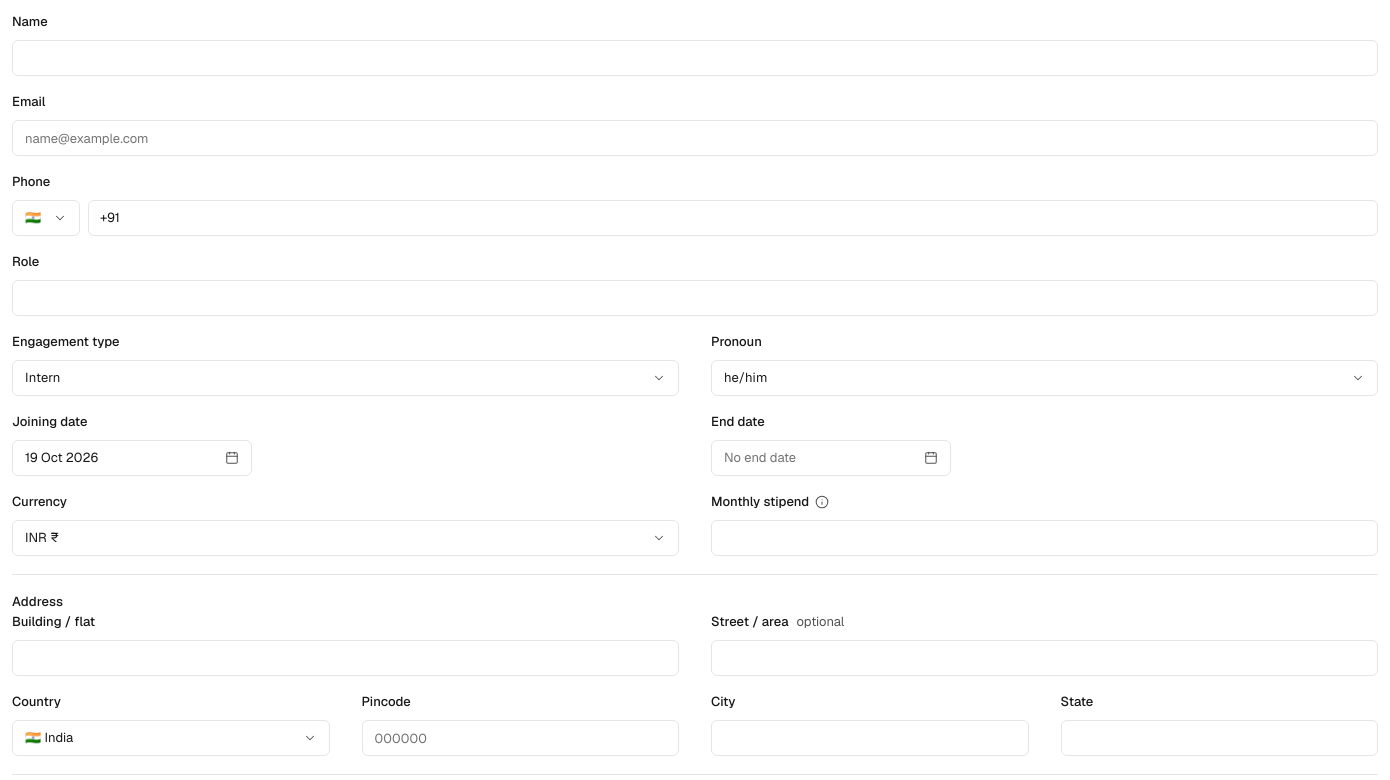
it: EmployeeForm — the pay figure › asks an employee for an annual salary
Click the dropdown named "engagement type". click: (43, 378)
box: [12,360,679,396]
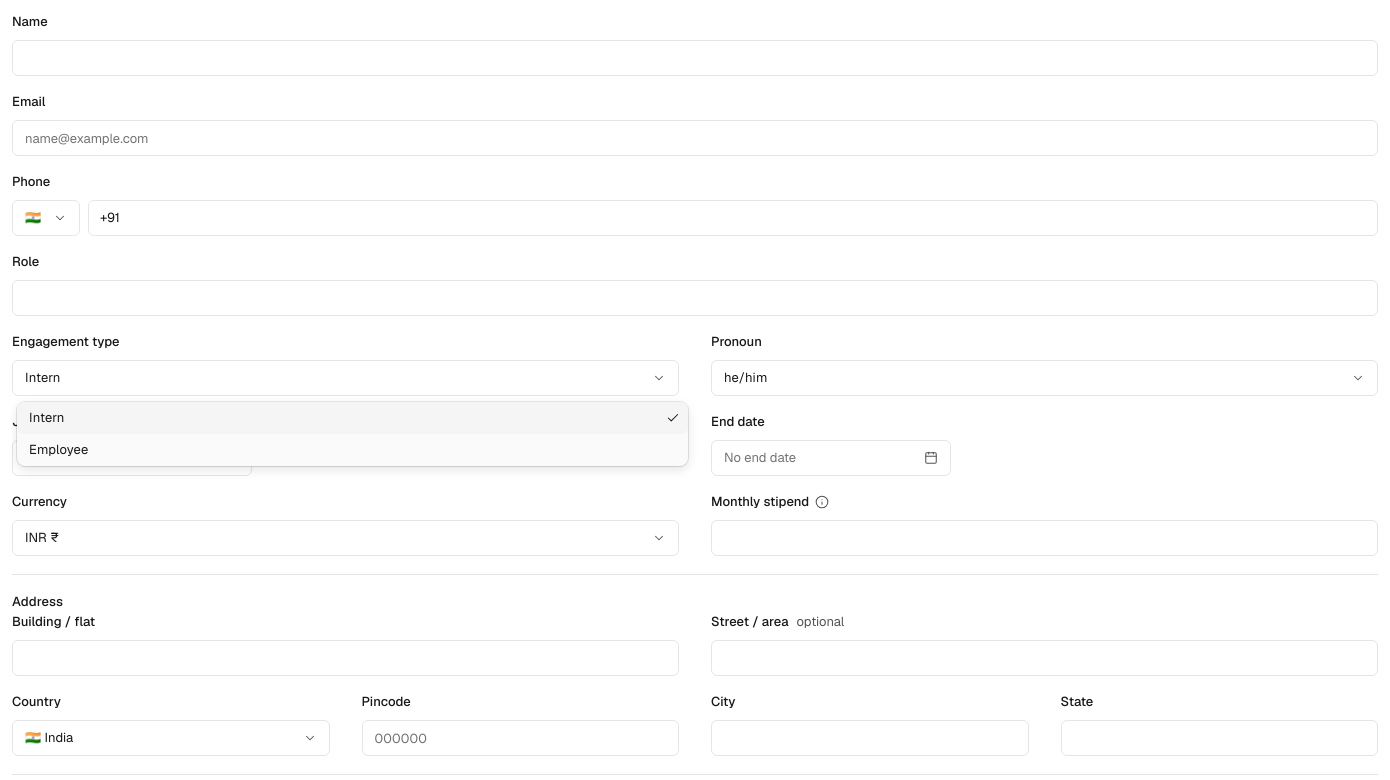
Click the option "Employee". click: (59, 450)
box: [29,441,88,458]
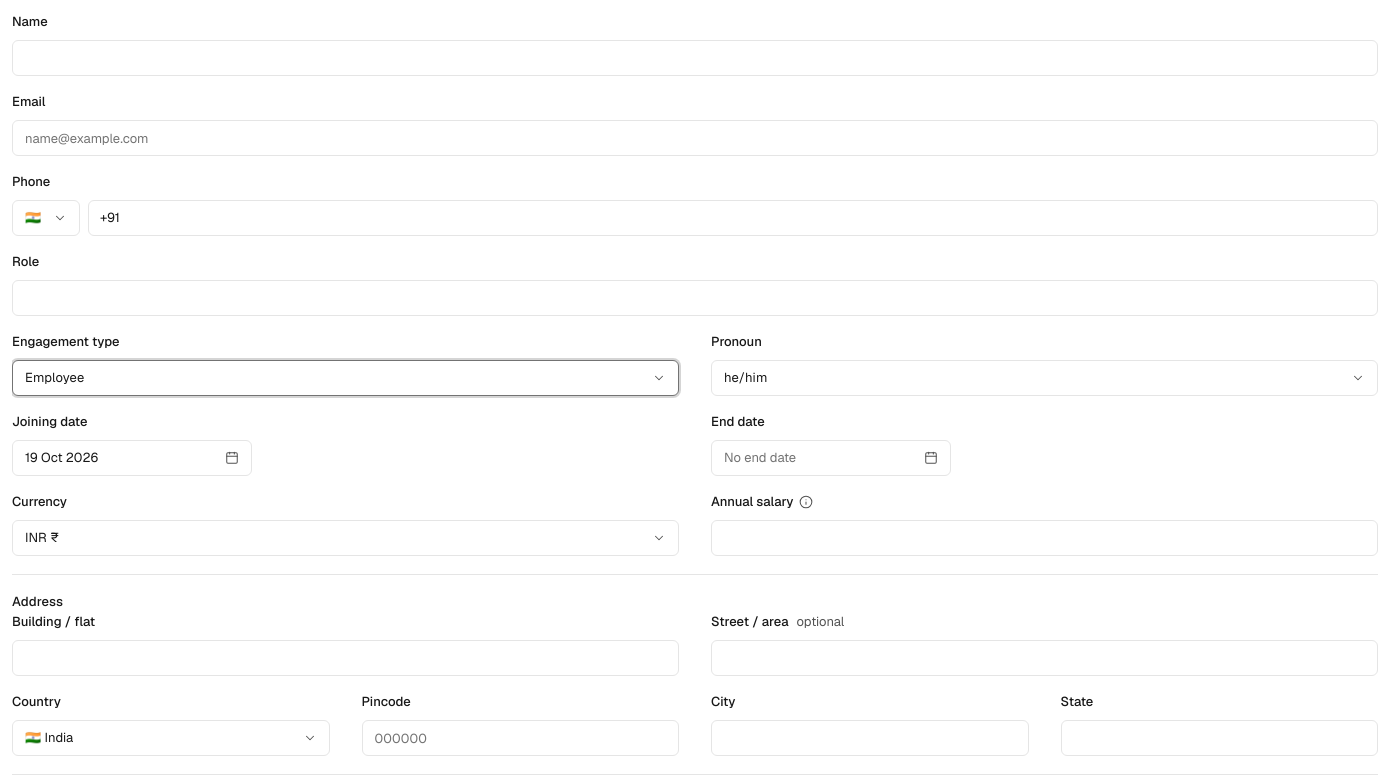
Expected: the field labelled "Annual salary" is shown, [711,520,1378,556]
Now the label labelled "Monthly stipend" is gone
